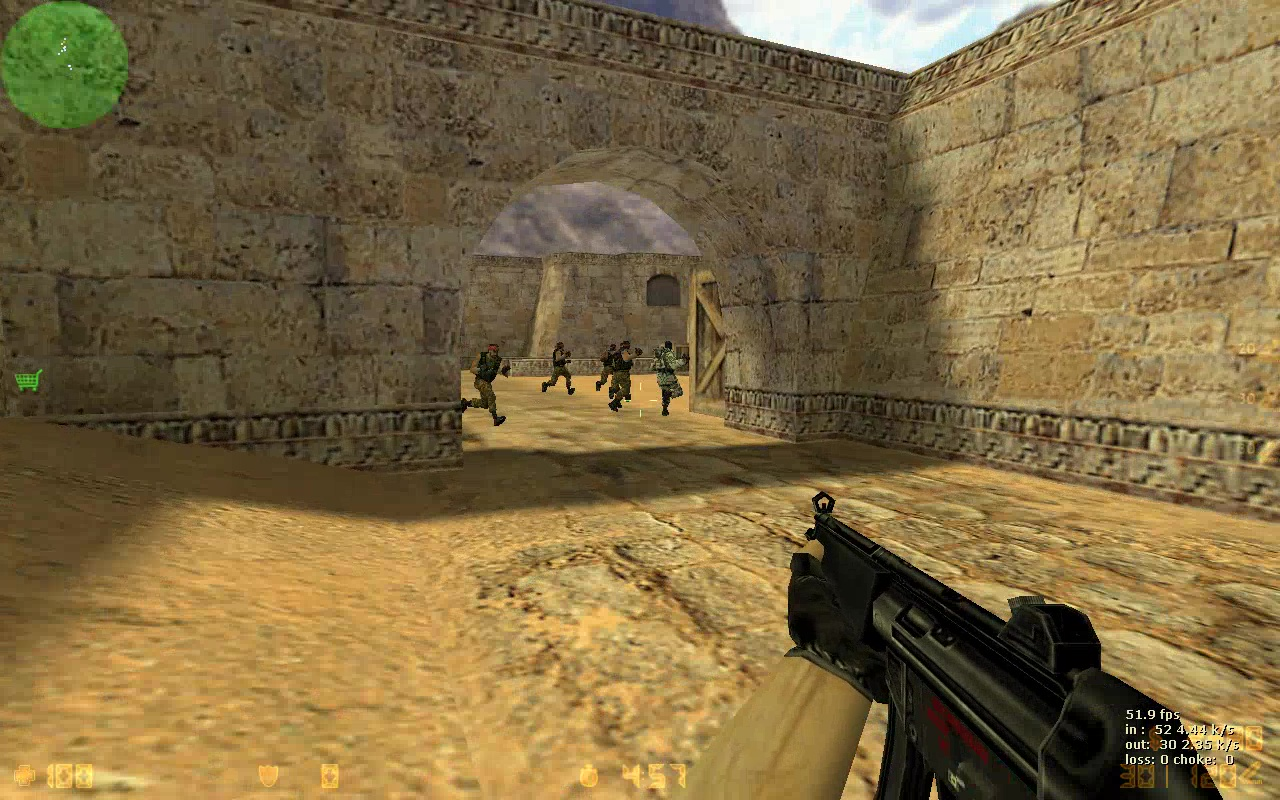terr1: (463, 341, 511, 428), (611, 341, 642, 410), (543, 343, 574, 393), (598, 346, 612, 392)
terr2: (652, 343, 689, 421)
